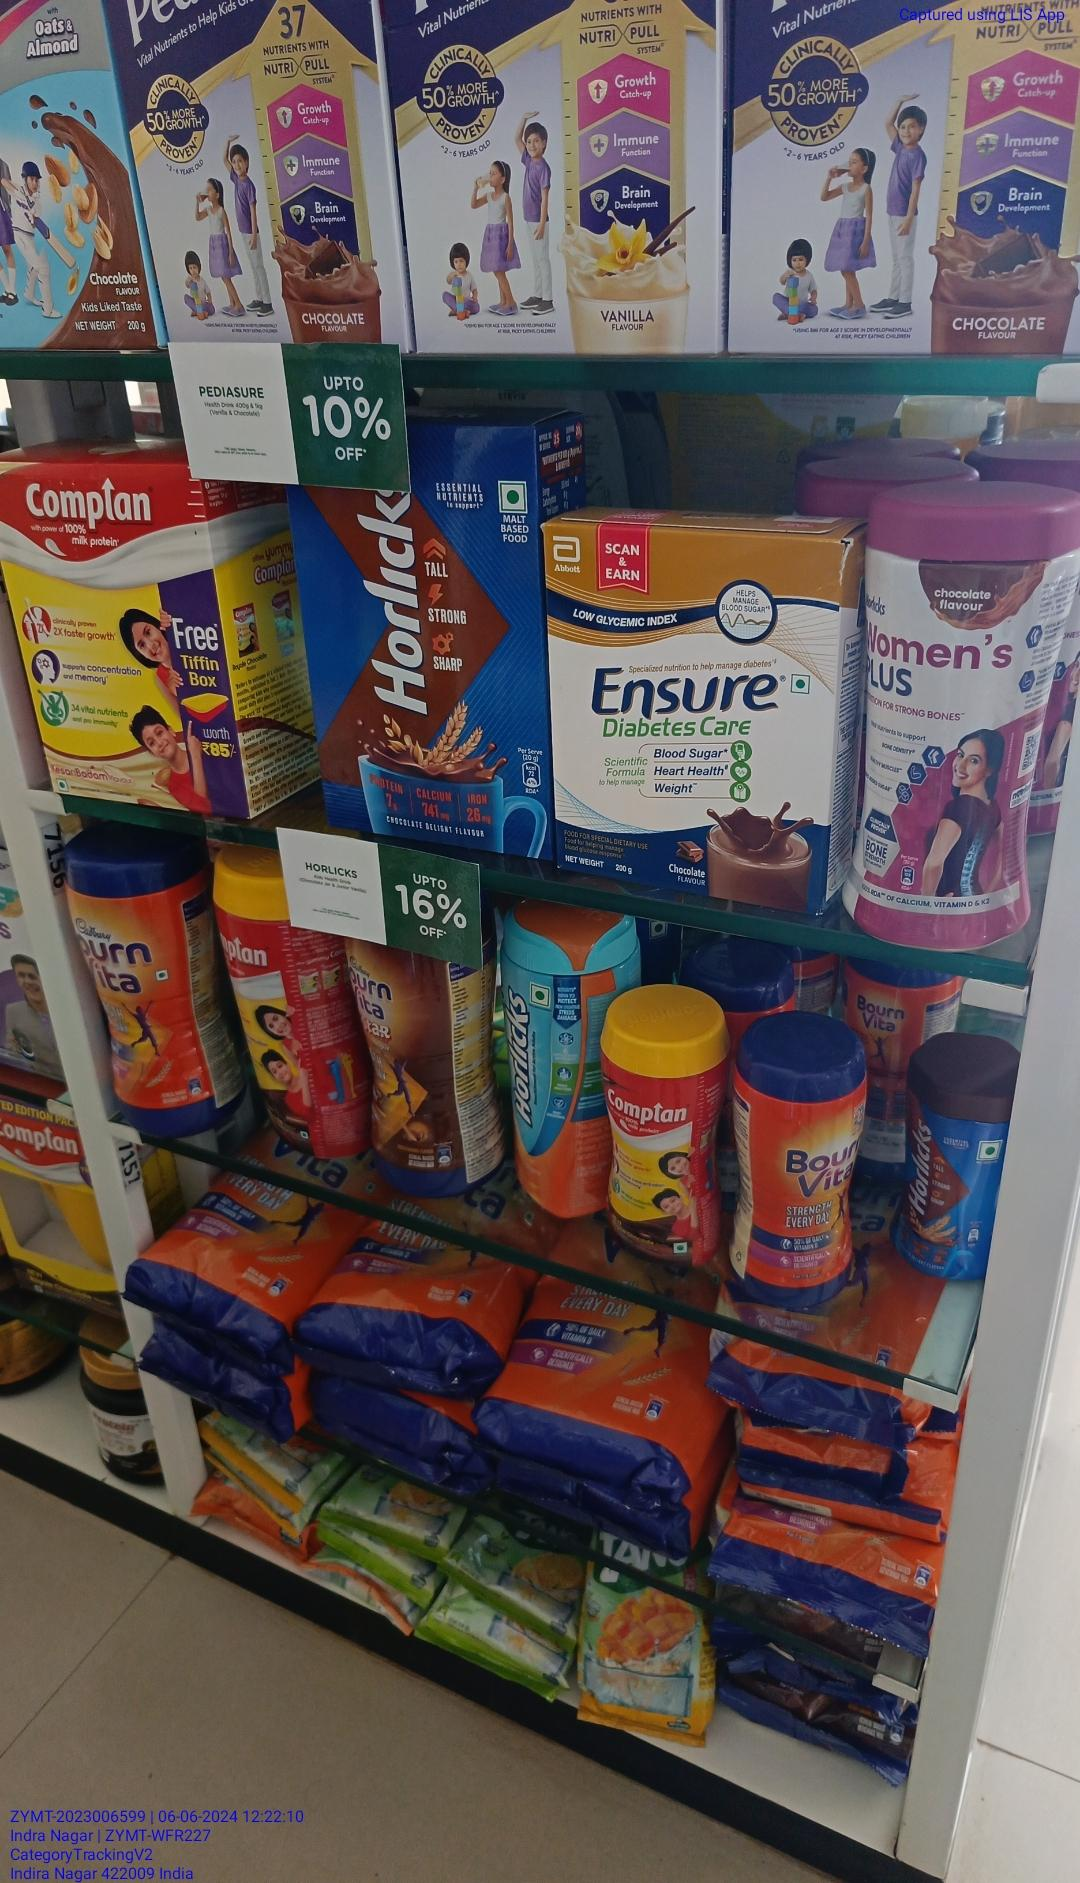BOURN_VITA_200_G_JAR: (742, 1045, 855, 1310)
BOURN_VITA_500_G_JAR: (78, 842, 197, 1138)
BOURN_VITA_FIVE_STAR_MAGIC_500_G_JAR: (348, 935, 458, 1207)
COMPLAN_CHOCOLATE_200_GMS_JAR: (596, 1024, 702, 1266)
COMPLAN_CHOCOLATE_500_GMS_JAR: (212, 855, 309, 1164)
HORLICKS_LITE_REGULAR_MALT_500_GM_JAR: (498, 927, 591, 1227)
HORLICK_CHOCOLATE_200_G_JAR: (891, 1062, 995, 1283)
PEDIASURE_CHOCOLATE_500_G_PACK: (733, 0, 1080, 356), (124, 0, 374, 345)
PEDIASURE_VANILLA_500_G_PACK: (394, 0, 715, 356)
